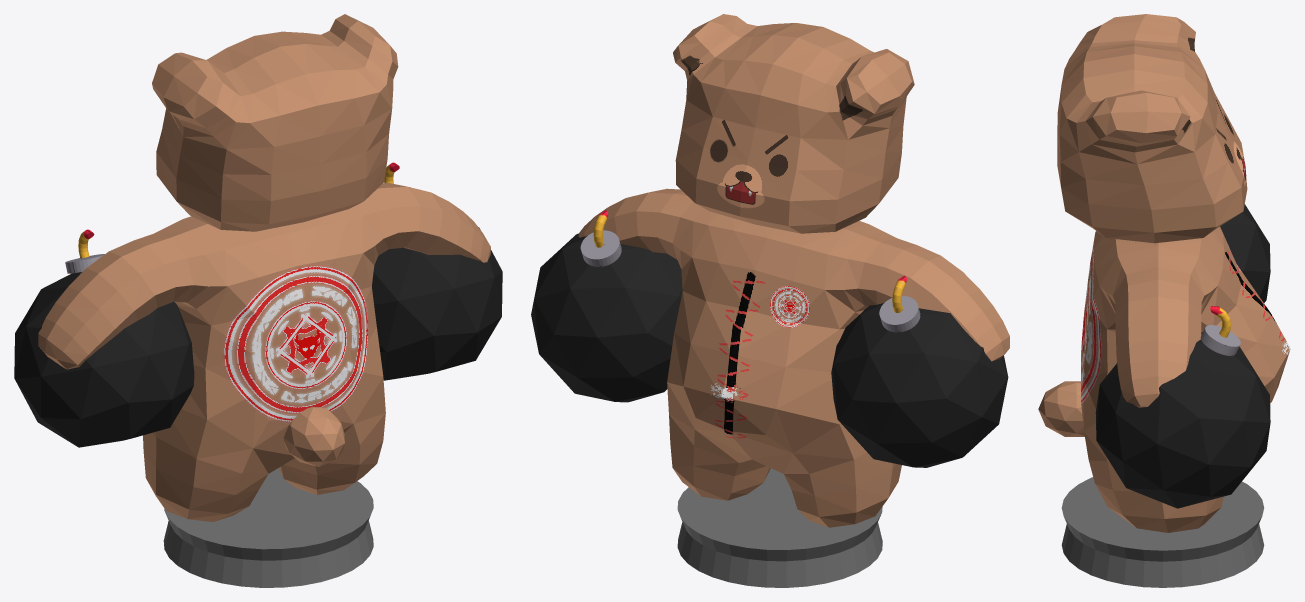
Rendered from BomBears.obj.
3 renders of one model, left to right at view 1: azimuth 30°, elevation 25°; view 2: azimuth 150°, elevation 25°; view 3: azimuth 270°, elevation 25°, orthographic. The views are drawn at different scales.
Parts seen in each view (by area): view 1: 立方体, 立方体.001, ICO球.001, Cylinder, ICO球; view 2: 立方体, 立方体.001, ICO球.001, ICO球, Cylinder; view 3: 立方体.001, 立方体, ICO球, Cylinder, ICO球.001.
Boxes of the visible parts, bbox=[...] form: 立方体: bbox=[38, 183, 490, 521]; 立方体.001: bbox=[152, 14, 398, 231]; ICO球.001: bbox=[14, 229, 194, 447]; Cylinder: bbox=[163, 468, 373, 587]; ICO球: bbox=[372, 162, 502, 380]; 立方体: bbox=[578, 188, 1009, 527]; 立方体.001: bbox=[673, 14, 914, 233]; ICO球.001: bbox=[831, 275, 1008, 467]; ICO球: bbox=[531, 210, 682, 402]; Cylinder: bbox=[677, 468, 882, 587]; 立方体.001: bbox=[1057, 14, 1247, 243]; 立方体: bbox=[1038, 226, 1290, 532]; ICO球: bbox=[1095, 306, 1270, 508]; Cylinder: bbox=[1061, 477, 1264, 587]; ICO球.001: bbox=[1220, 204, 1270, 302].
Size of the model in its own units: 3.24 by 3.42 by 1.6.
5 materials, 5 textured.
